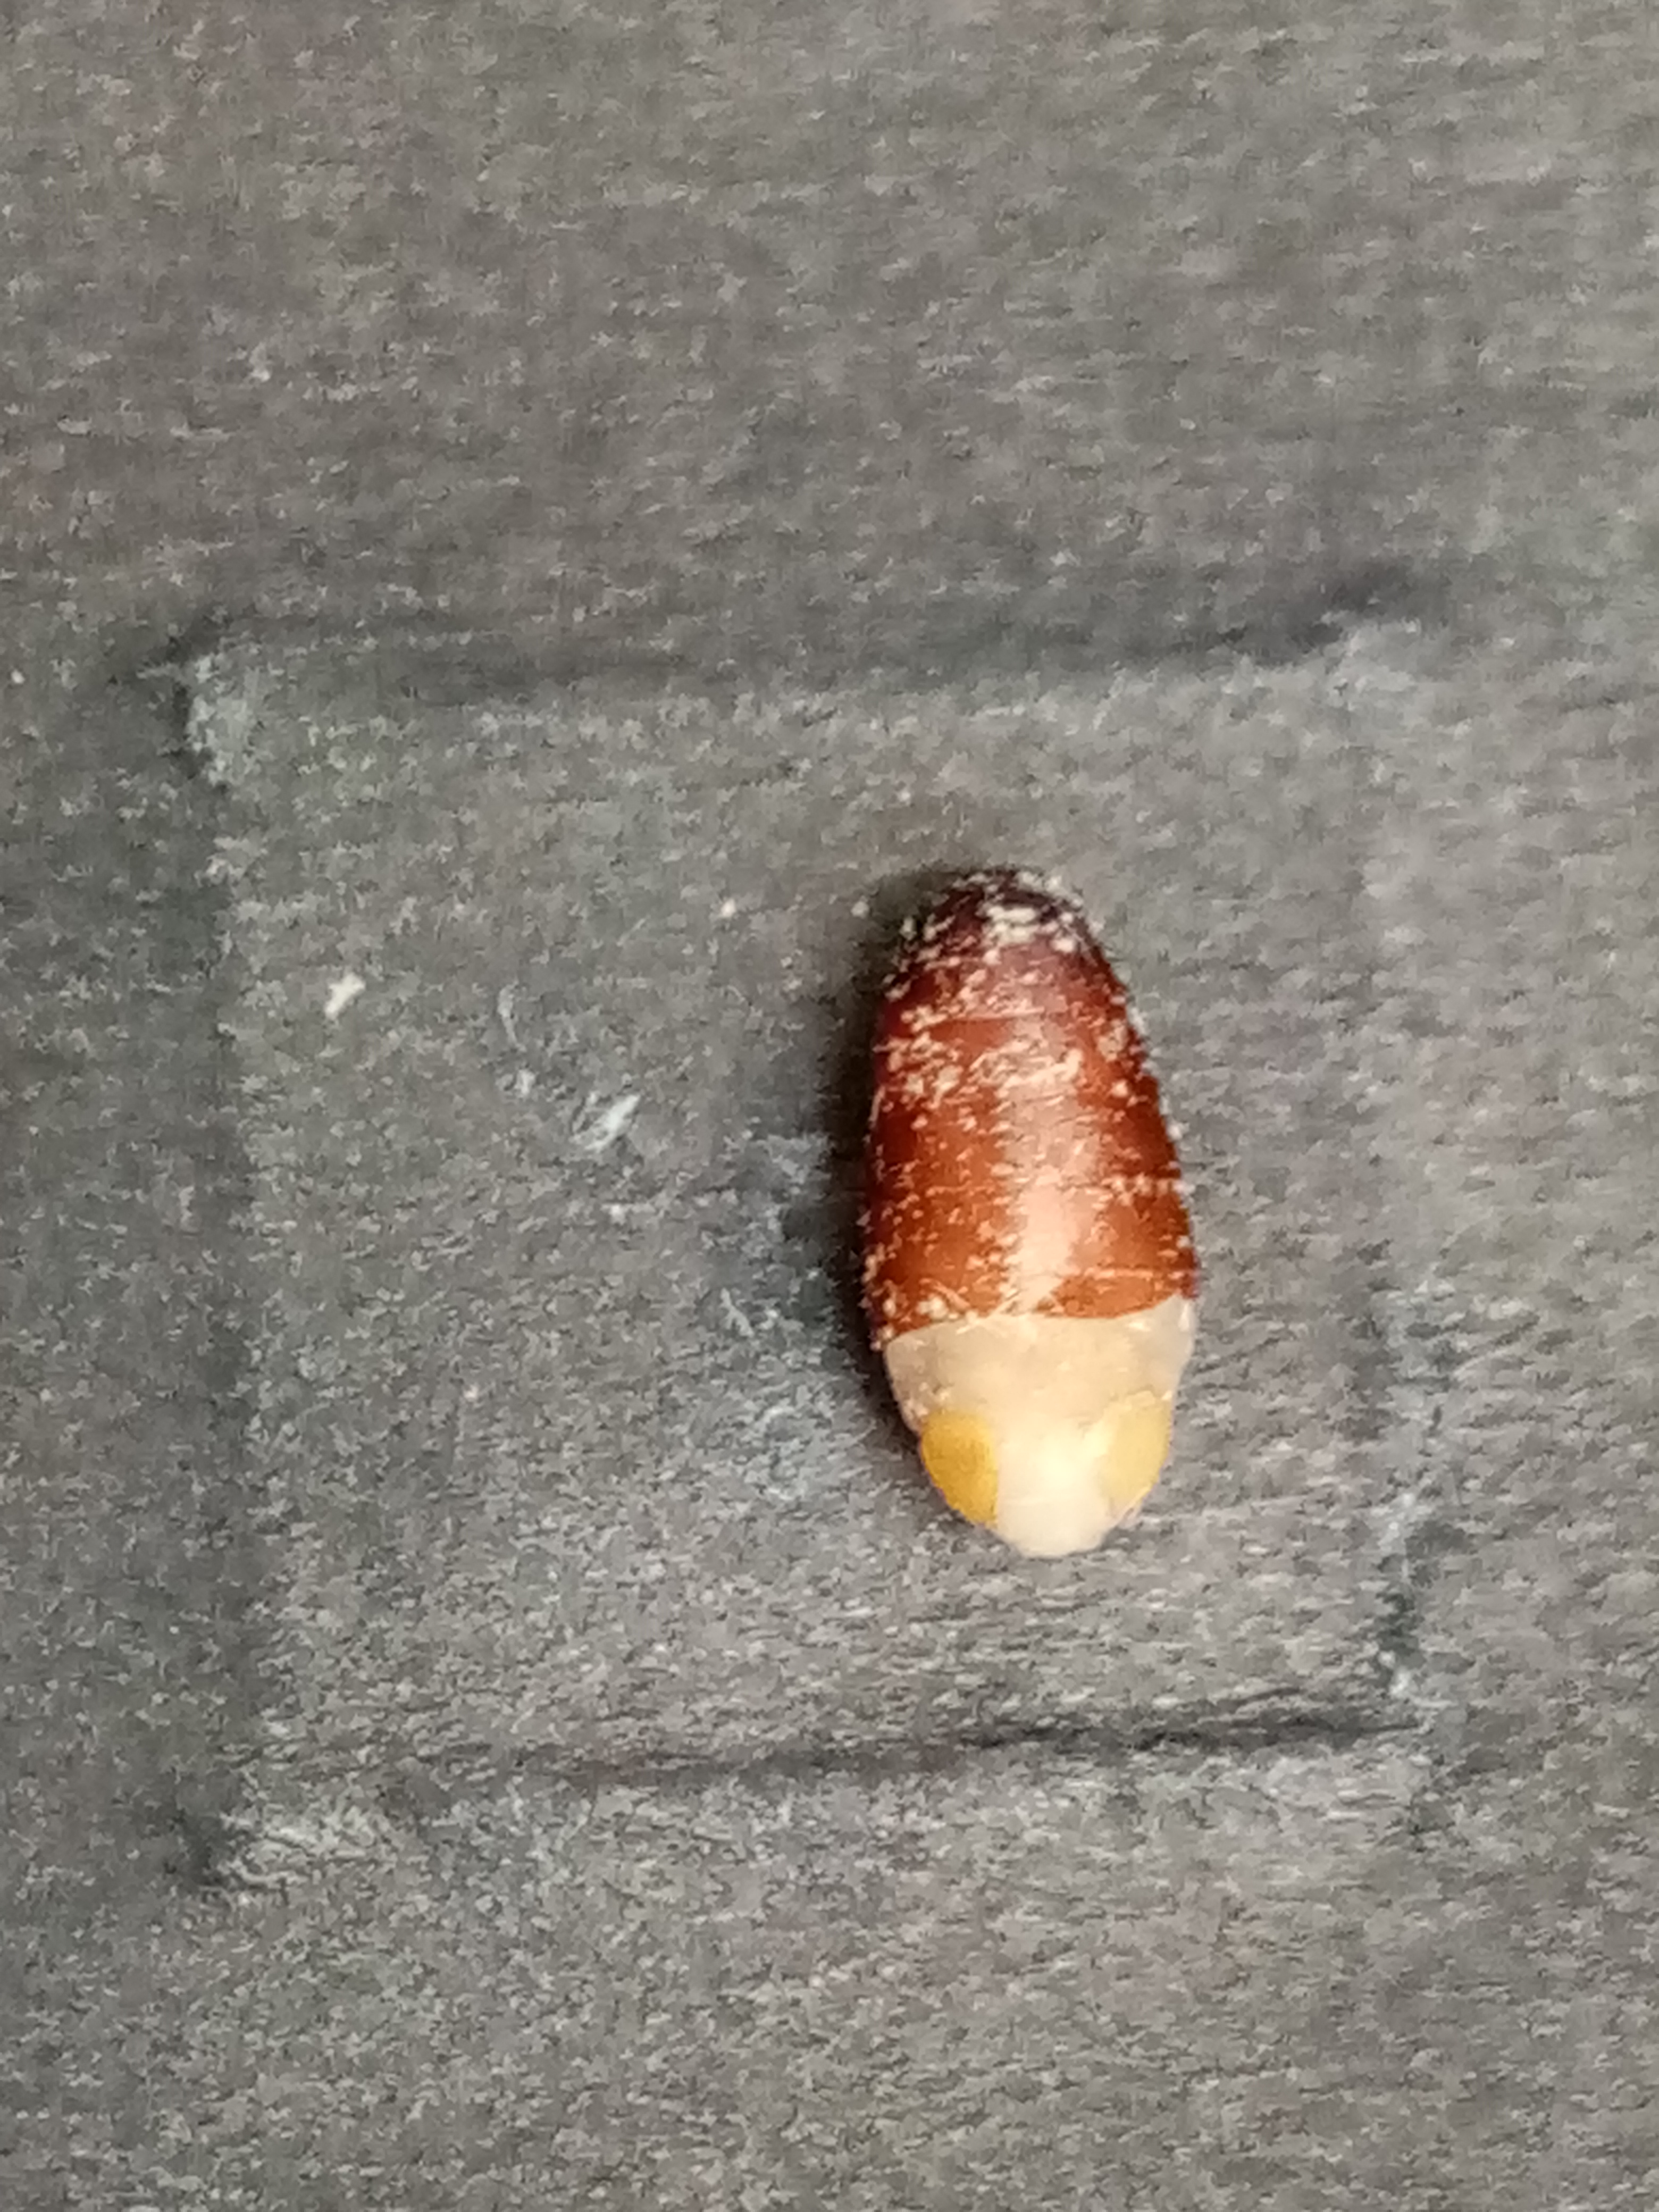pupa: (896, 1360, 1197, 1557)
